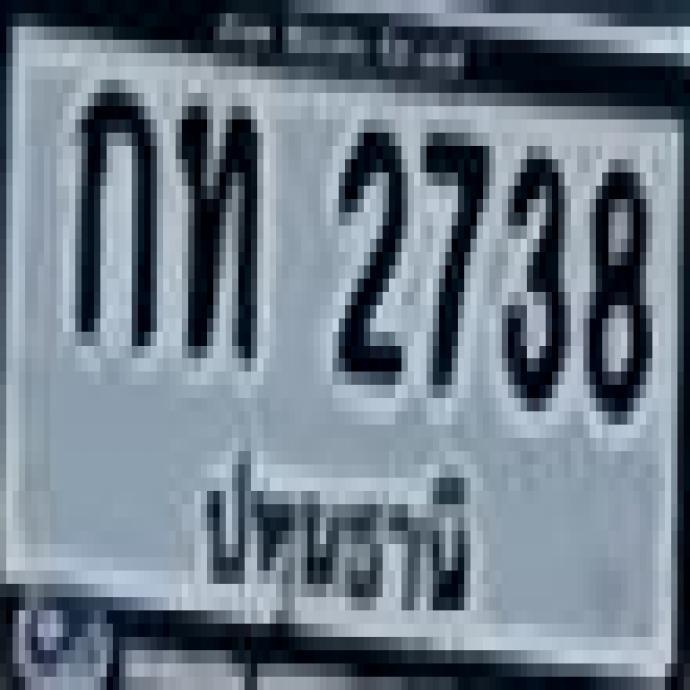2: (332, 113, 400, 371)
3: (498, 136, 562, 397)
7: (417, 121, 483, 385)
8: (581, 149, 645, 411)
A01: (72, 73, 152, 335)
A23: (174, 92, 254, 349)
PTE: (188, 434, 486, 632)
